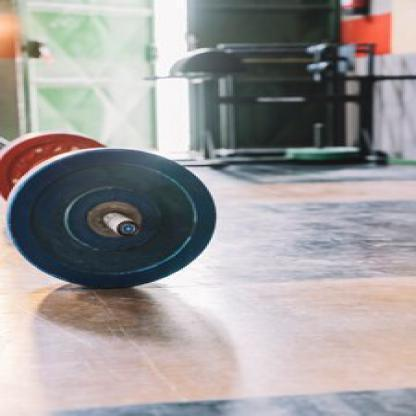barbell: (0, 132, 217, 290)
